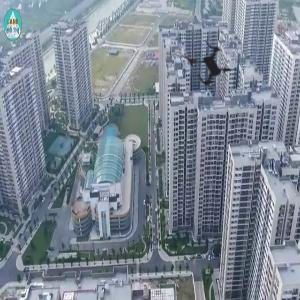drone: (165, 17, 261, 113)
